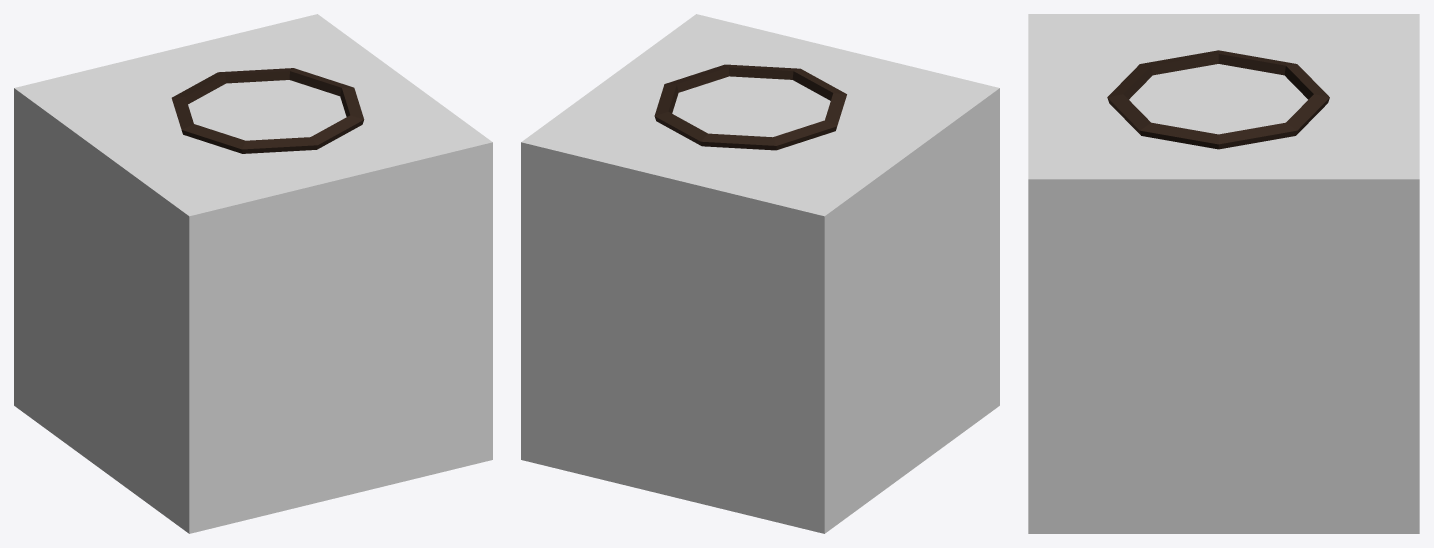
The model's file is pot_clay_2.glb.
3 renders of one model, left to right at view 1: azimuth 30°, elevation 25°; view 2: azimuth 150°, elevation 25°; view 3: azimuth 270°, elevation 25°, orthographic. The views are drawn at different scales.
Visible parts, largest first — view 1: Cube, Pot_02; view 2: Cube, Pot_02; view 3: Cube, Pot_02.
Boxes of the visible parts, <box> form: Cube: <box>14,14,492,533</box>; Pot_02: <box>171,68,364,153</box>; Cube: <box>521,14,999,533</box>; Pot_02: <box>654,64,846,150</box>; Cube: <box>1028,14,1419,533</box>; Pot_02: <box>1107,50,1329,149</box>.
Size of the model in its own units: 0.4699 by 0.4819 by 0.4699.
Materials: 1 (1 with a texture image).
